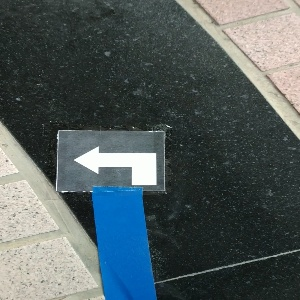left: (57, 130, 165, 191)
